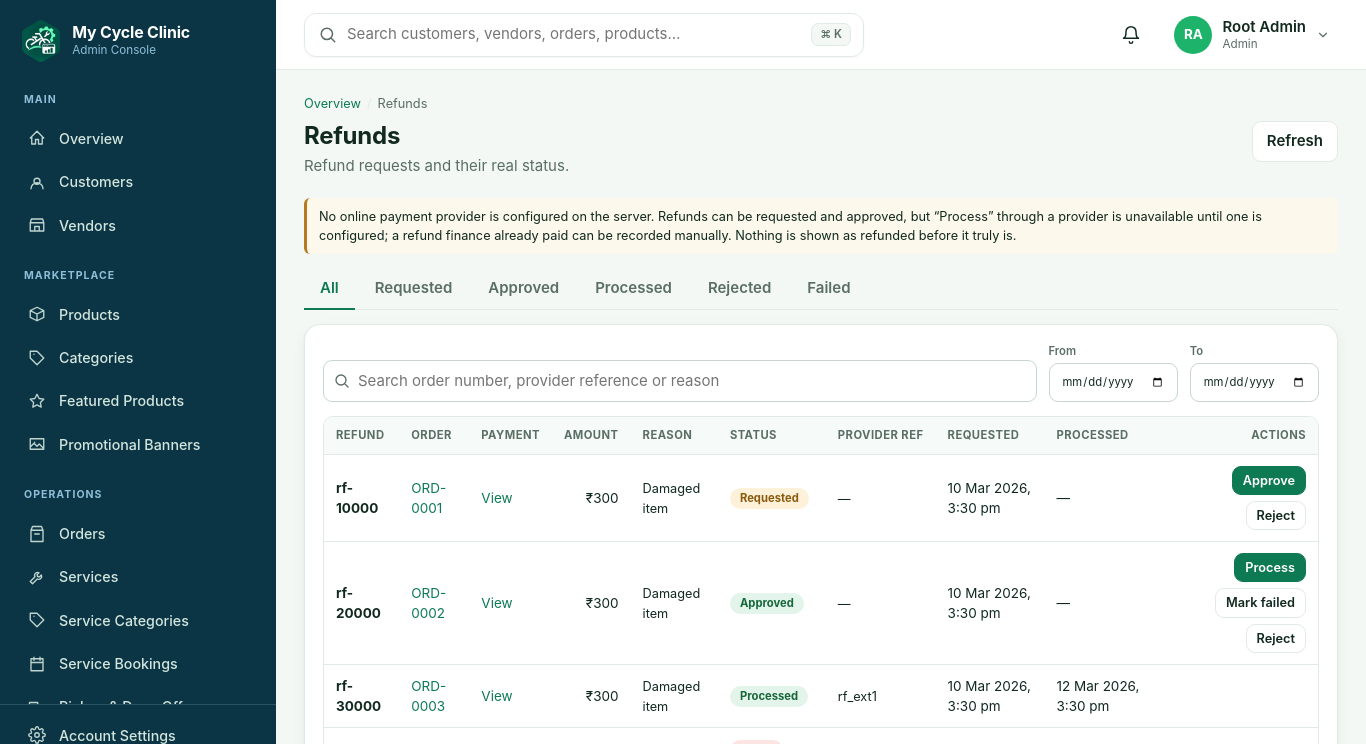
Test case: refunds › without a provider a refund cannot be processed through one; a manual record needs the external reference and is sent as manual
Click the button "Process".
click(1270, 568)  # box [1234,553,1306,582]
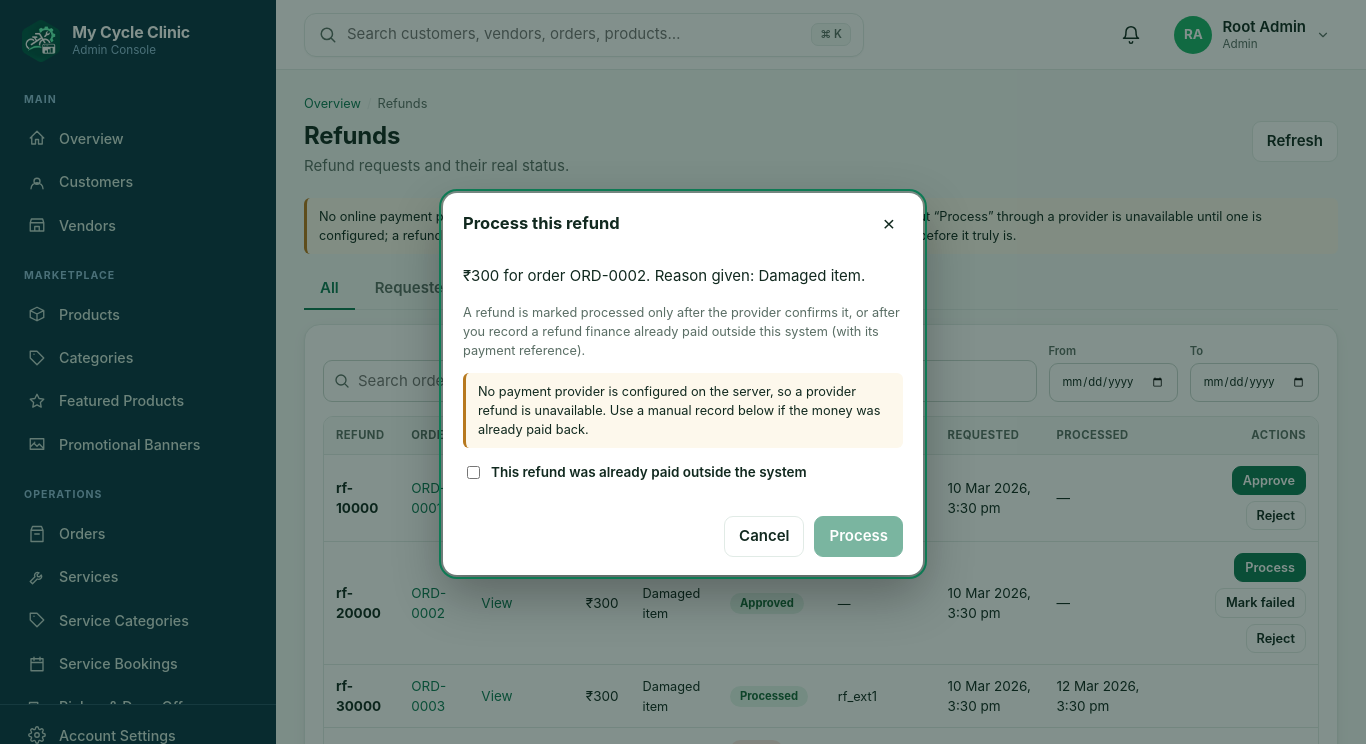
Result: the text "No payment provider is configured" is shown at [478,384,880,437]
Result: the button "Process" is disabled at [814,516,903,557]
Click the checkbox labelled "This refund was already paid outside the system".
click(474, 472)  # box [467,466,480,479]
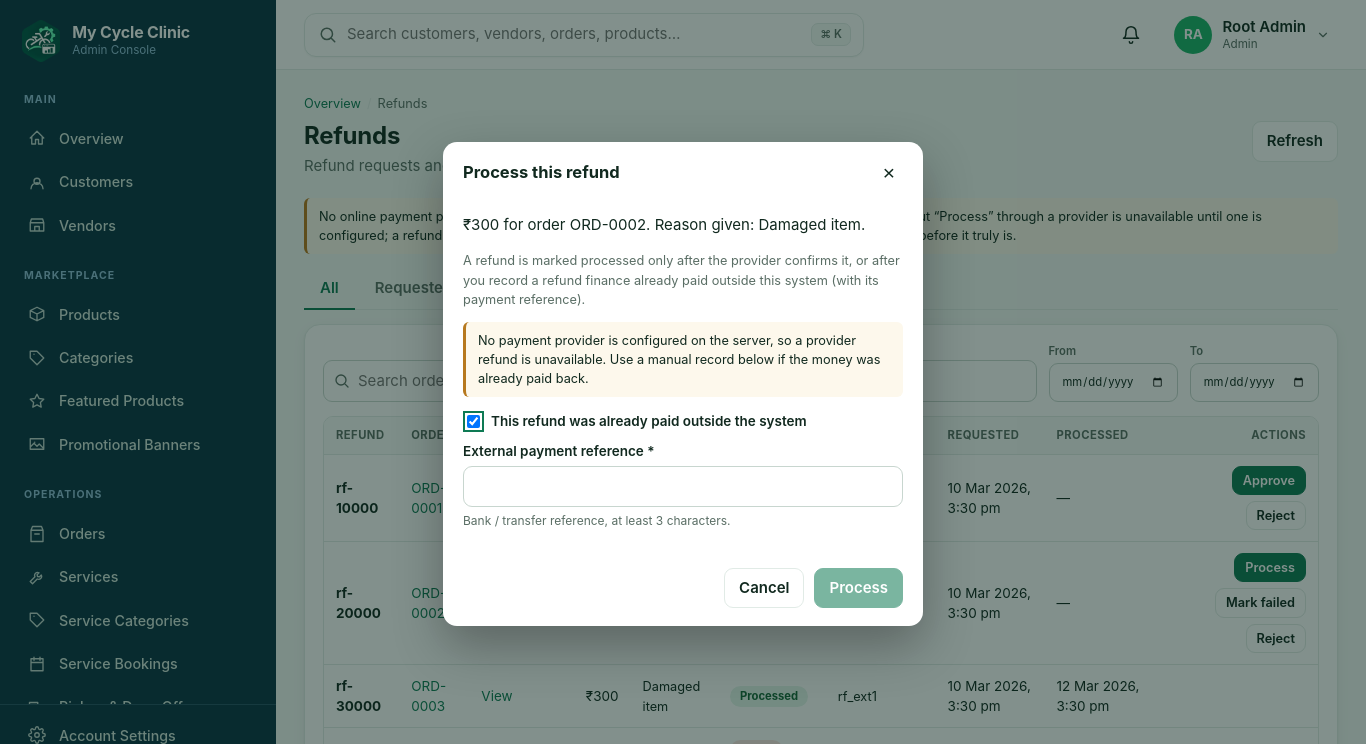
Result: the button "Process" is disabled at [814,568,903,608]
Type "NEFT-998877" into the field labelled "External payment reference *".
click(683, 487); type("NEFT-998877")  # box [463,466,903,507]
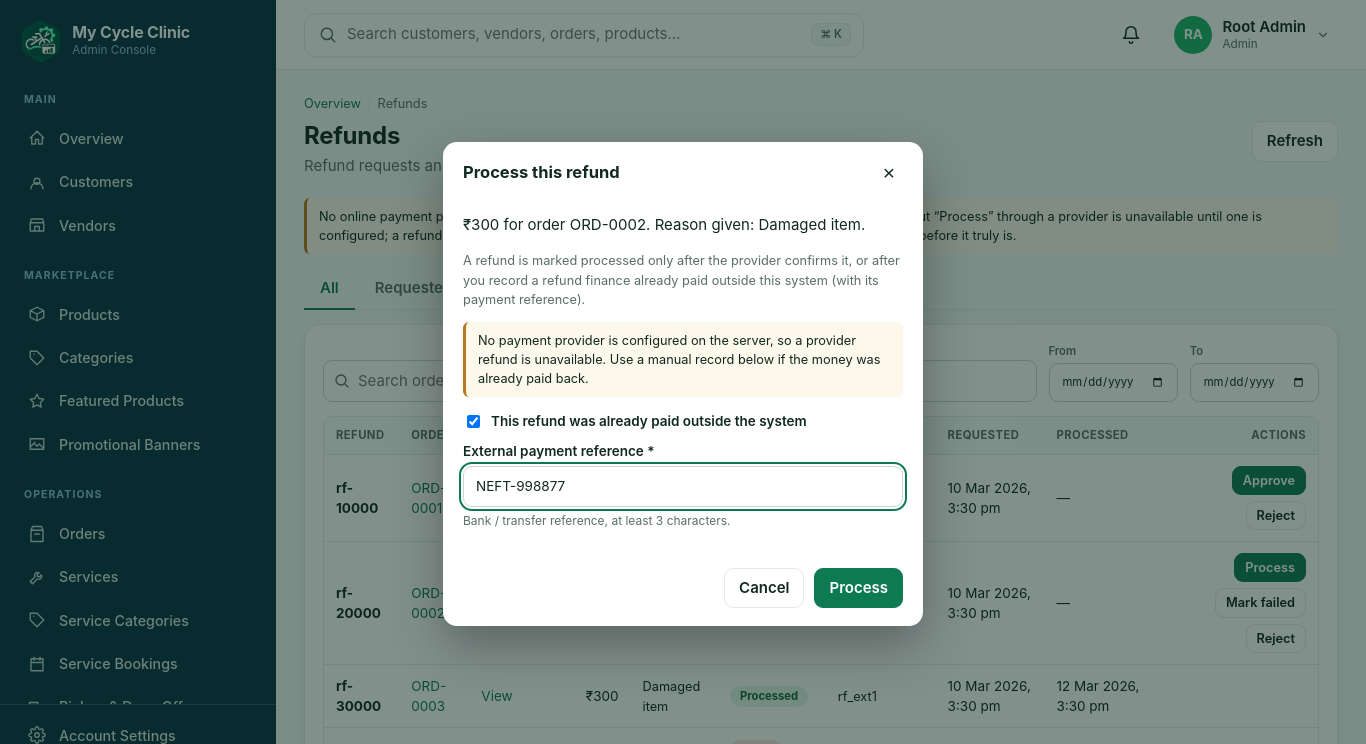
Result: the button "Process" is enabled at [814,568,903,608]
